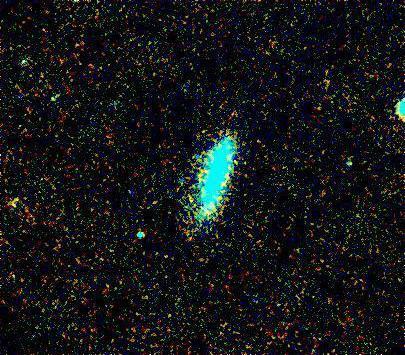star: (0, 184, 28, 214)
